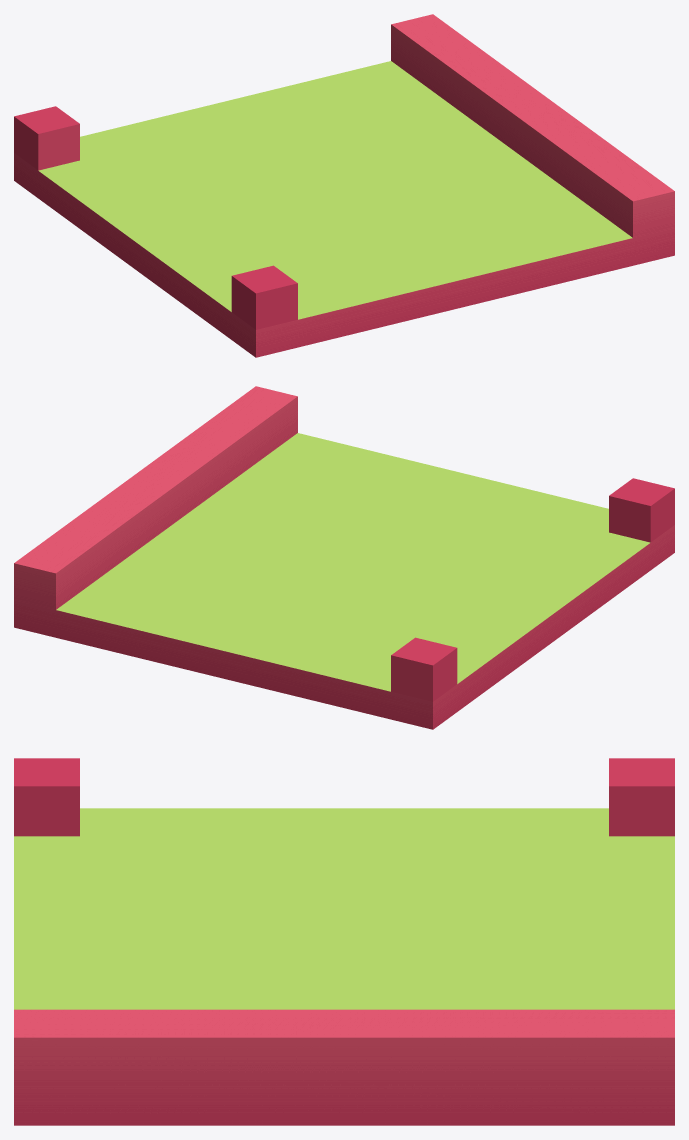
File: walls-to-side.glb
The picture shows the model from 3 angles, top to bottom: view 1: azimuth 30°, elevation 25°; view 2: azimuth 150°, elevation 25°; view 3: azimuth 270°, elevation 25°; orthographic projection. The views are drawn at different scales.
Visible parts, largest first — view 1: side; view 2: side; view 3: side.
Part boxes in pixels (left/top/right/bottom): side: left=14, top=14, right=674, bottom=357; side: left=14, top=386, right=674, bottom=729; side: left=14, top=758, right=674, bottom=1125.
Size of the model in its own units: 0.9999 by 0.1467 by 0.9999.
1 material, 1 textured.
